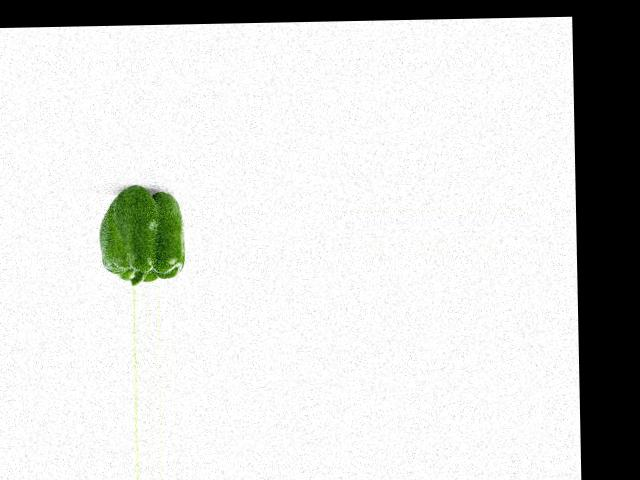bell_pepper: (96, 187, 187, 284)
